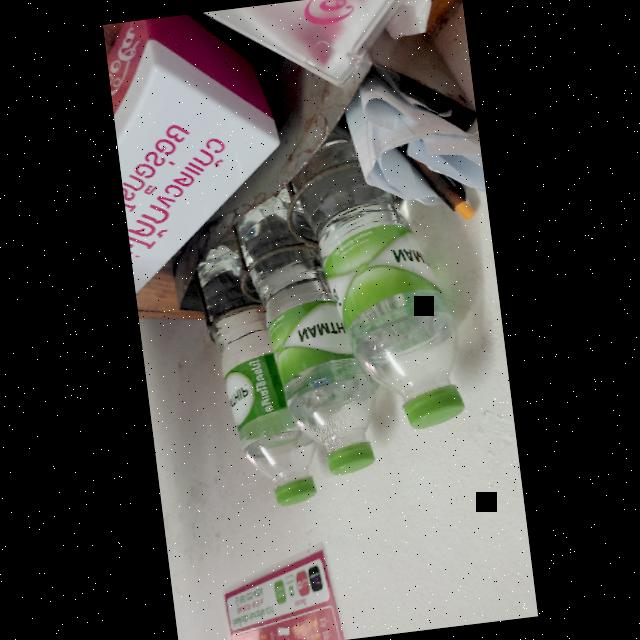plastic_bottle: (281, 134, 478, 446), (237, 194, 412, 489), (190, 238, 340, 516)
plastic_bottle_cap: (401, 376, 467, 431), (322, 439, 378, 478), (274, 471, 316, 508)
scrap_paper: (341, 66, 487, 220)
